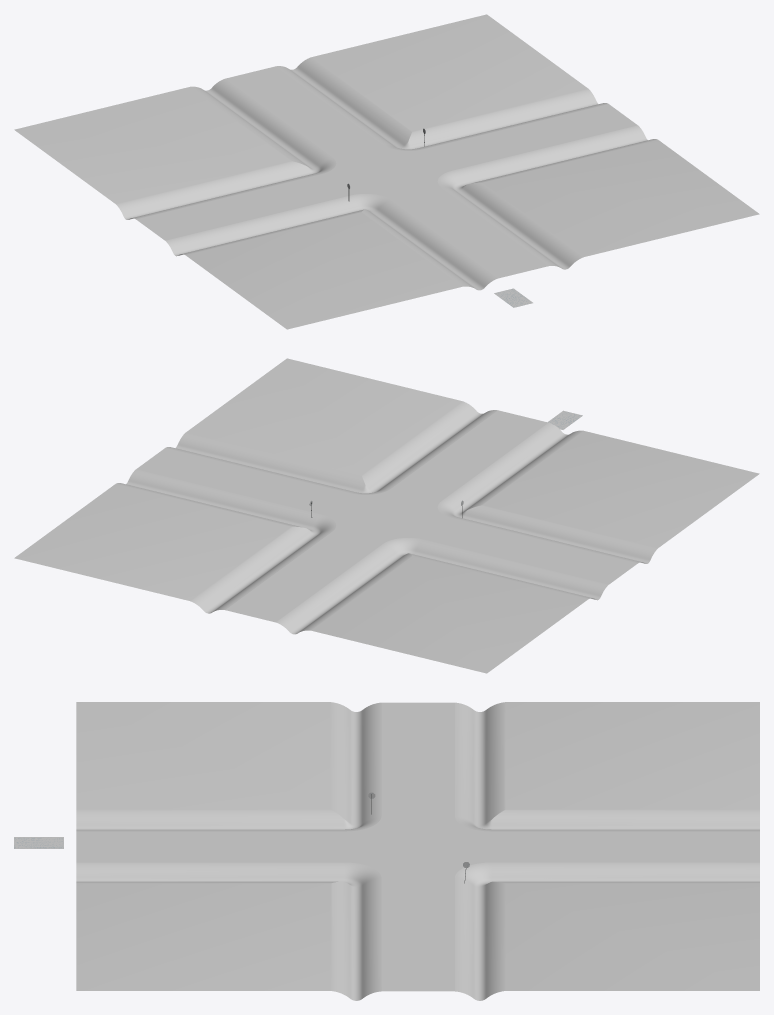
Rendered from Intersection03.dae.
The picture shows the model from 3 angles, top to bottom: view 1: azimuth 30°, elevation 25°; view 2: azimuth 150°, elevation 25°; view 3: azimuth 270°, elevation 25°; orthographic projection. The views are drawn at different scales.
Parts seen in each view (by area): view 1: group_0, group_4 (×3), group_1 (×3), group_3 (×3), group_2 (×3); view 2: group_0, group_3 (×3), group_2 (×3), group_4 (×3), group_1 (×3); view 3: group_0 (×5), group_1 (×3), group_2 (×3), group_4 (×3), group_3 (×3), SketchUp.
Boxes of the visible parts, box(x1,y1,x2,y2) form: group_0: box(136, 66, 637, 278); group_4 (×3): box(165, 194, 497, 329); group_1 (×3): box(437, 125, 759, 269); group_3 (×3): box(14, 79, 336, 219); group_2 (×3): box(276, 14, 608, 150); group_0: box(136, 410, 637, 622); group_3 (×3): box(276, 538, 608, 673); group_2 (×3): box(14, 469, 336, 613); group_4 (×3): box(437, 423, 759, 563); group_1 (×3): box(165, 358, 497, 494); group_0 (×5): box(76, 702, 759, 991); group_1 (×3): box(76, 862, 381, 1000); group_2 (×3): box(455, 862, 759, 1000); group_4 (×3): box(76, 702, 381, 831); group_3 (×3): box(455, 702, 759, 831); SketchUp: box(14, 837, 63, 848).
Size of the model in its own units: 2688 by 2934 by 134.
